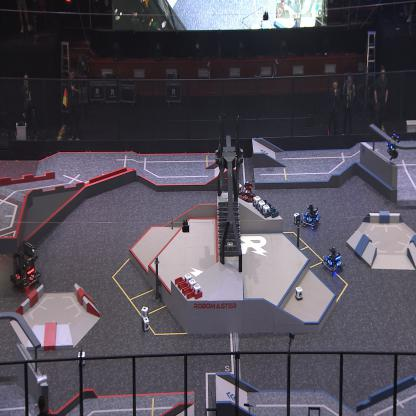car: (10, 239, 41, 289), (322, 246, 345, 274), (301, 203, 322, 229), (238, 178, 256, 206)
